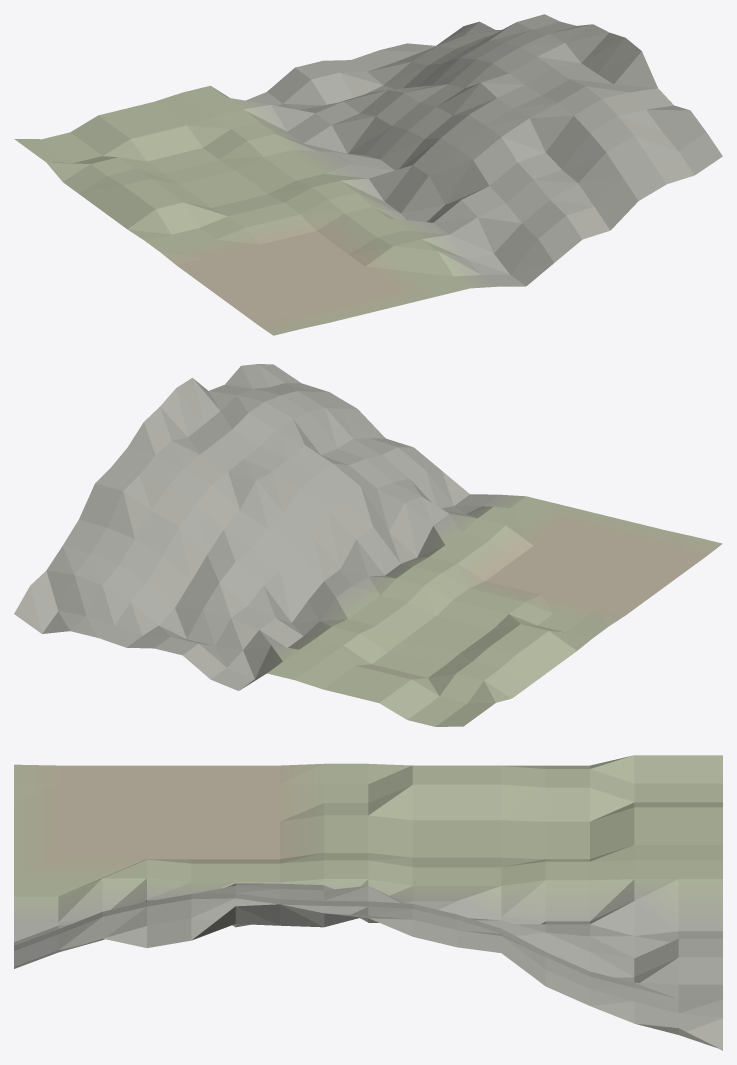
3 views of the same model, one above another, from view 1: azimuth 30°, elevation 25°; view 2: azimuth 150°, elevation 25°; view 3: azimuth 270°, elevation 25° (orthographic). The views are drawn at different scales.
Size of the model in its own units: 32 by 8.81 by 32.
